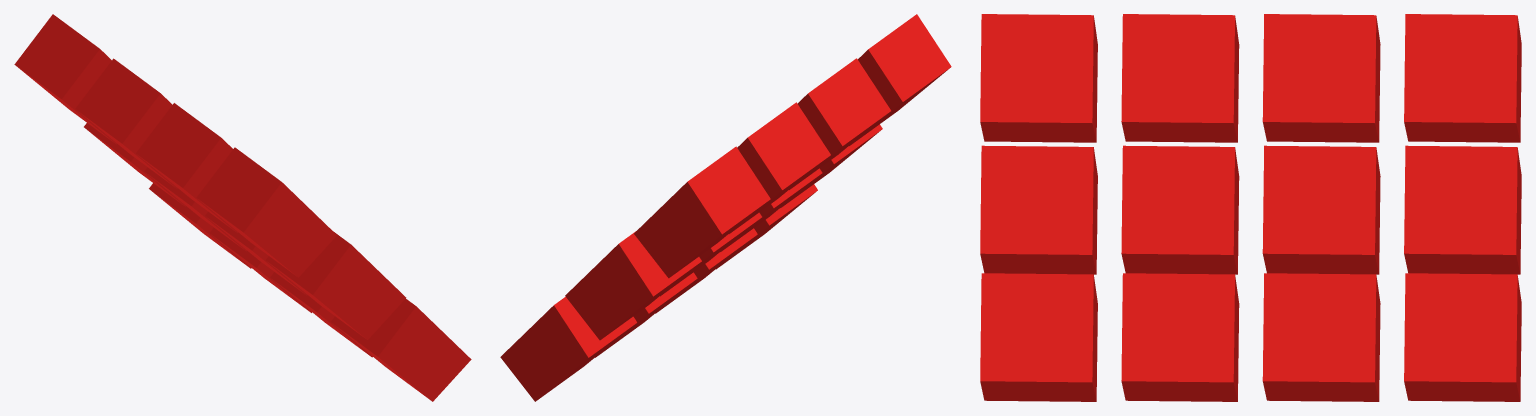
File: computer key 1.fbx
The picture shows the model from 3 angles, left to right: view 1: azimuth 30°, elevation 25°; view 2: azimuth 150°, elevation 25°; view 3: azimuth 270°, elevation 25°; orthographic projection. The views are drawn at different scales.
Parts seen in each view (by area): view 1: Cylinder.014; view 2: Cylinder.014; view 3: Cylinder.014.
Part boxes in pixels (bbox=[...]): Cylinder.014: bbox=[14, 14, 471, 401]; Cylinder.014: bbox=[500, 14, 951, 401]; Cylinder.014: bbox=[980, 14, 1521, 401].
Size of the model in its own units: 71.94 by 78.42 by 128.
